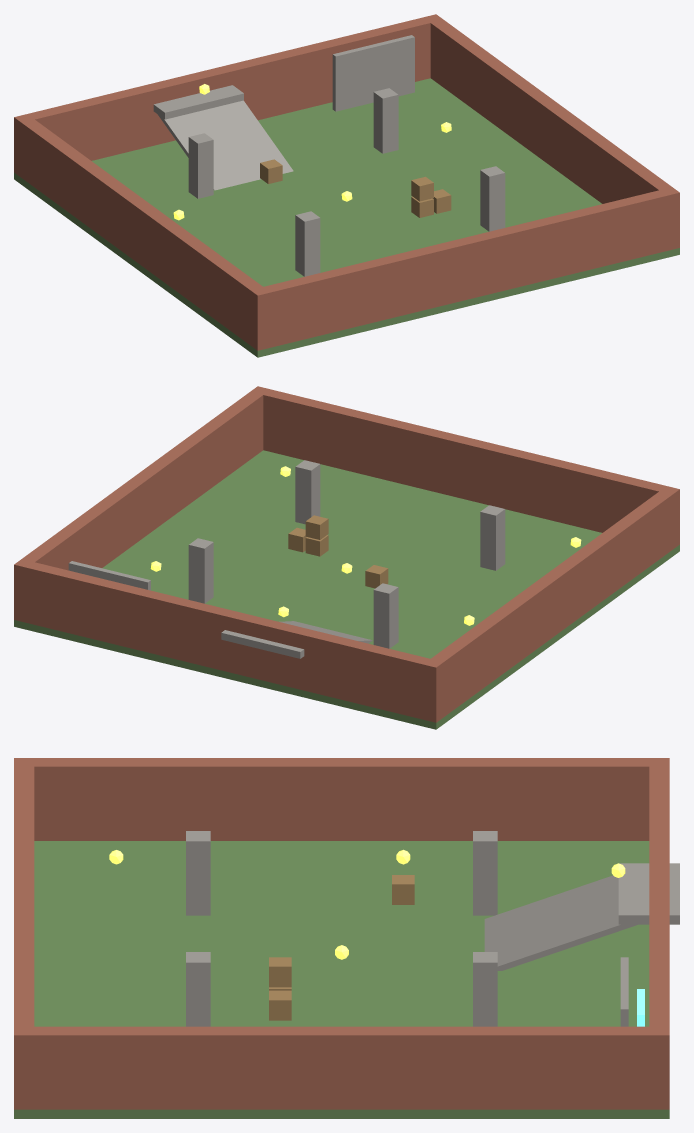
Rendered from courtyard.glb.
The picture shows the model from 3 angles, top to bottom: view 1: azimuth 30°, elevation 25°; view 2: azimuth 150°, elevation 25°; view 3: azimuth 270°, elevation 25°; orthographic projection. The views are drawn at different scales.
Visible parts, largest first — view 1: col_Ground, col_Wall.001, col_Wall.000, col_Wall.003, col_Wall.002, col_Ramp, hit_GateFence, col_Pillar.003, col_Pillar.001, col_Pillar.002, col_Pillar.000, col_Platform; view 2: col_Ground, col_Wall.000, col_Wall.001, col_Wall.003, col_Wall.002, col_Pillar.000, col_Pillar.003, col_Pillar.002, col_Pillar.001, col_Platform, hit_GateFence; view 3: col_Ground, col_Wall.002, col_Wall.003, col_Ramp, col_Wall.000, col_Wall.001, col_Platform, col_Pillar.000, col_Pillar.002, col_Pillar.001, col_Pillar.003, Crate.001 (+3 smaller).
Part boxes in pixels (box(x1,y1,x2,y2)): col_Ground: box(14, 78, 679, 357); col_Wall.001: box(250, 187, 679, 350); col_Wall.000: box(14, 14, 443, 177); col_Wall.003: box(21, 119, 262, 344); col_Wall.002: box(430, 20, 671, 203); col_Ramp: box(153, 100, 293, 190); hit_GateFence: box(332, 35, 414, 111); col_Pillar.003: box(373, 88, 398, 153); col_Pillar.001: box(480, 166, 505, 231); col_Pillar.002: box(188, 133, 213, 198); col_Pillar.000: box(295, 211, 320, 276); col_Platform: box(153, 85, 243, 119); col_Ground: box(14, 450, 679, 729); col_Wall.000: box(14, 559, 443, 722); col_Wall.001: box(250, 386, 679, 549); col_Wall.003: box(431, 491, 672, 716); col_Wall.002: box(22, 392, 263, 570); col_Pillar.000: box(480, 505, 505, 570); col_Pillar.003: box(188, 538, 213, 603); col_Pillar.002: box(373, 583, 398, 648); col_Pillar.001: box(295, 460, 320, 524); col_Platform: box(221, 630, 304, 658); hit_GateFence: box(68, 561, 150, 590); col_Ground: box(14, 841, 669, 1118); col_Wall.002: box(34, 1026, 649, 1109); col_Wall.003: box(34, 758, 649, 840); col_Ramp: box(484, 875, 649, 970); col_Wall.000: box(649, 758, 669, 1109); col_Wall.001: box(14, 758, 34, 1109); col_Platform: box(618, 863, 679, 924); col_Pillar.000: box(186, 831, 210, 915); col_Pillar.002: box(473, 831, 497, 915); col_Pillar.001: box(186, 952, 210, 1026); col_Pillar.003: box(473, 952, 497, 1026); Crate.001: box(269, 957, 291, 987).
Bounding box in the file's own units: 32 × 4.9 × 32.5.
